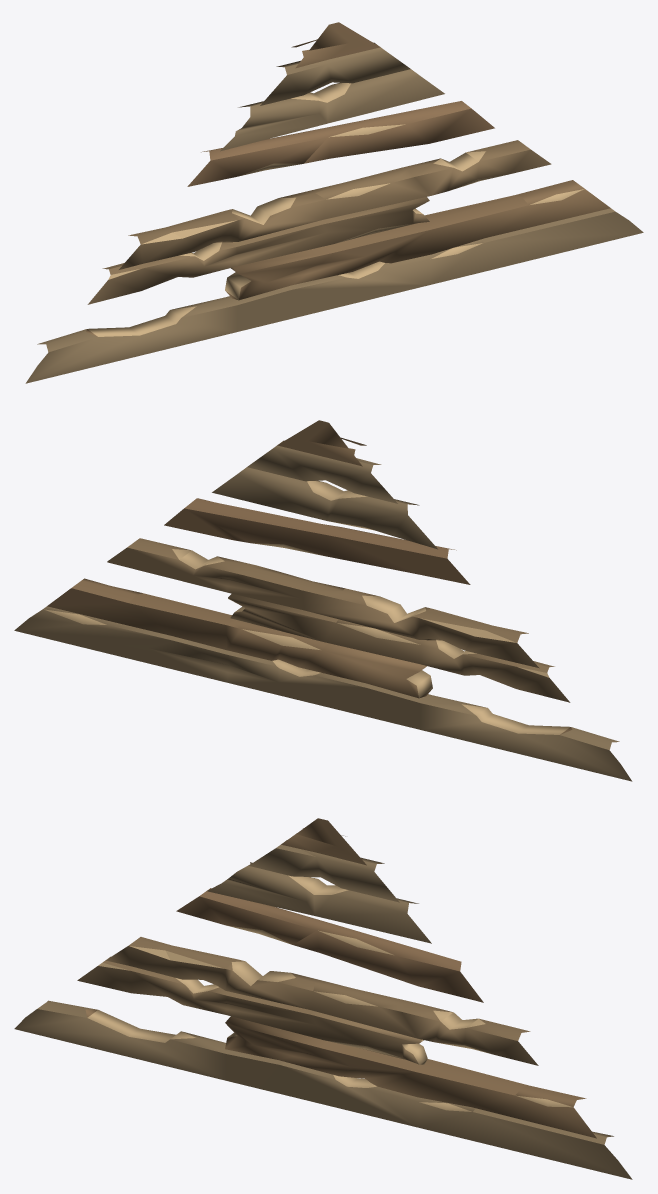
File: rpgpp_av_roof_end_01_9x4_wall_01a.gltf
3 views of the same model, one above another, from view 1: azimuth 30°, elevation 25°; view 2: azimuth 150°, elevation 25°; view 3: azimuth 330°, elevation 25° (orthographic).
Visible parts, largest first — view 1: rpgpp_av_roof_end_01_9x4_wall_01a; view 2: rpgpp_av_roof_end_01_9x4_wall_01a; view 3: rpgpp_av_roof_end_01_9x4_wall_01a.
Part boxes in pixels (<box>): rpgpp_av_roof_end_01_9x4_wall_01a: <box>25,22,643,383</box>; rpgpp_av_roof_end_01_9x4_wall_01a: <box>14,420,632,781</box>; rpgpp_av_roof_end_01_9x4_wall_01a: <box>14,818,632,1179</box>.
Size of the model in its own units: 0.0963 by 0.0423 by 0.00387.
1 material, 1 textured.
